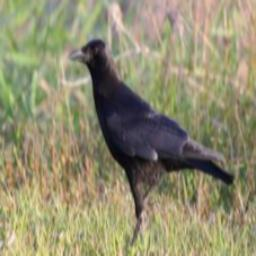Crow: (67, 36, 237, 253)
